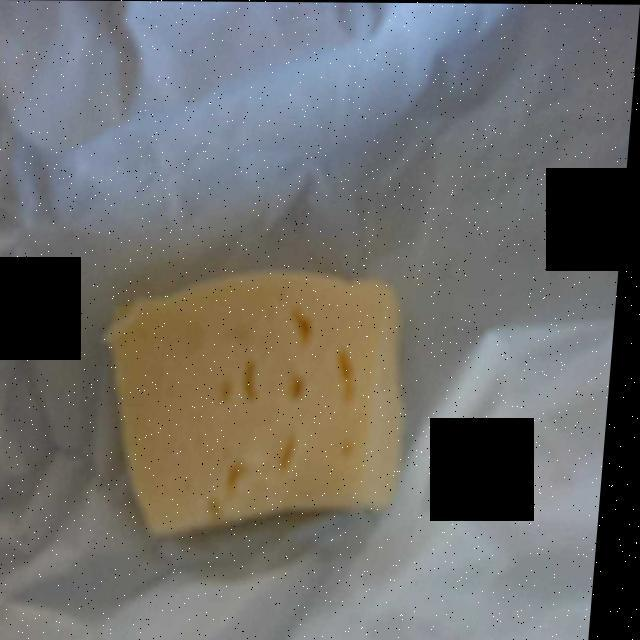cheese: (113, 276, 409, 534)
